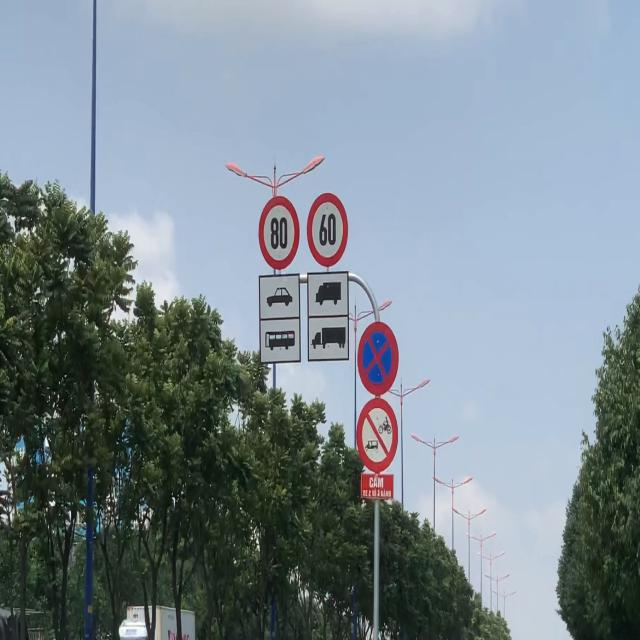Cam dung va do: (357, 320, 400, 396)
Toc do toi da: (257, 194, 301, 270), (306, 191, 349, 268)
